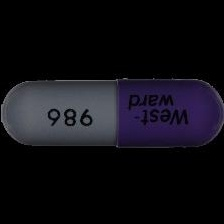0143-9986: (0, 0, 224, 224)
